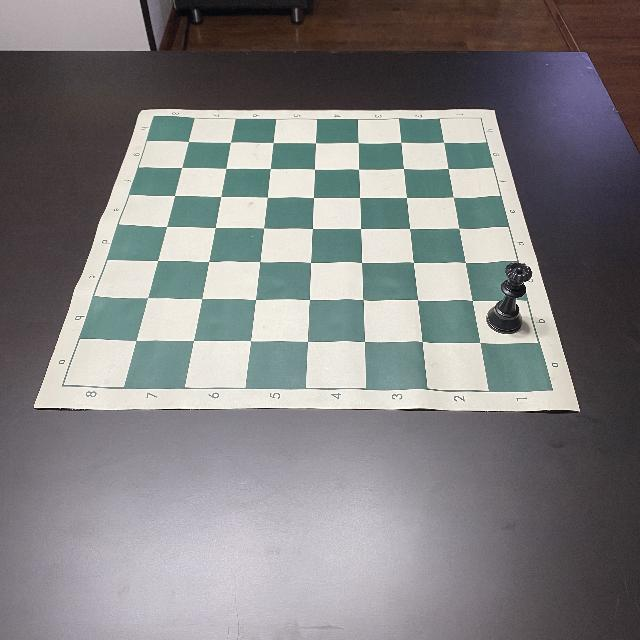black-queen: (485, 260, 533, 334)
board: (34, 107, 582, 413)
